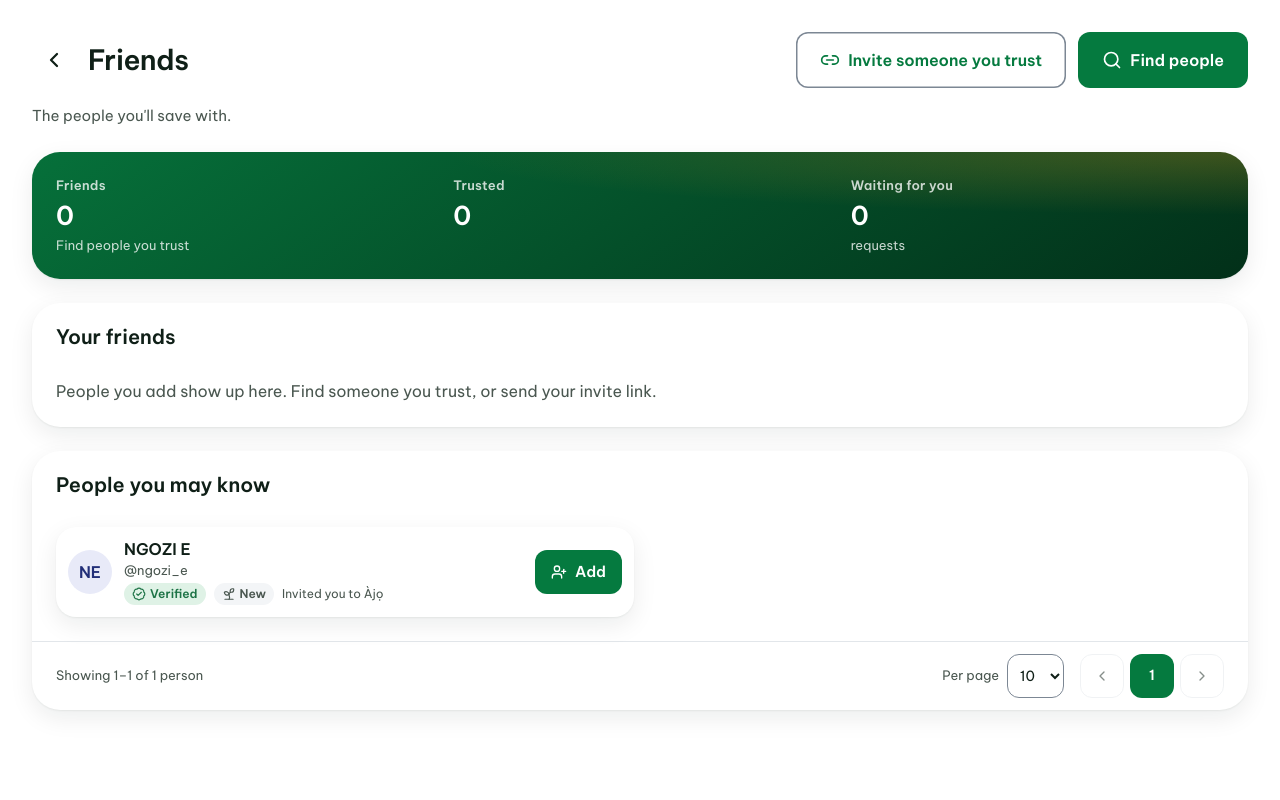
Test: the friends home › adds someone you may know with one tap, and says why if it fails
Expected: the text "Invited you to Àjọ" is shown, [282, 584, 384, 602]
Click the button with aria-label "Add NGOZI E" at (579,572), box [535, 550, 622, 594]
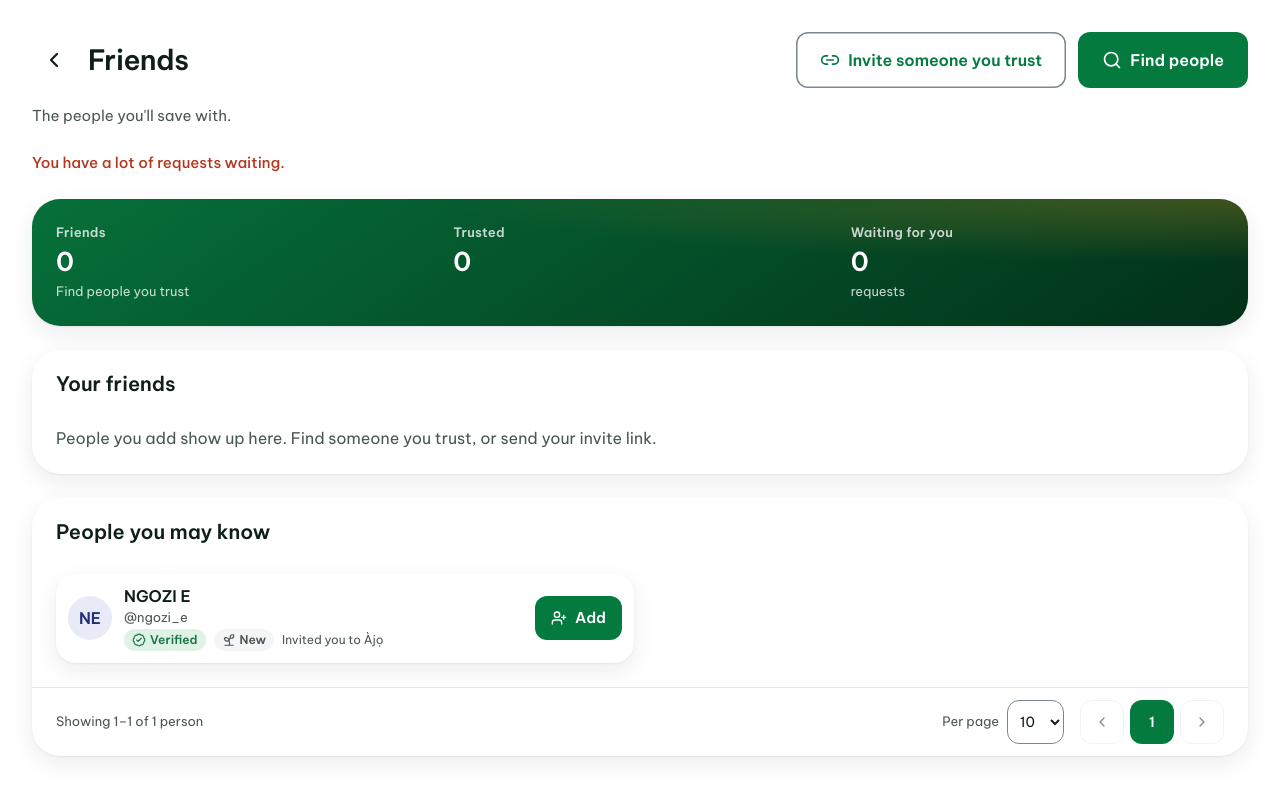
Result: the message reads "You have a lot of requests waiting." at [32, 153, 285, 172]
Click the button with aria-label "Add NGOZI E" at (579,618), box [535, 596, 622, 640]
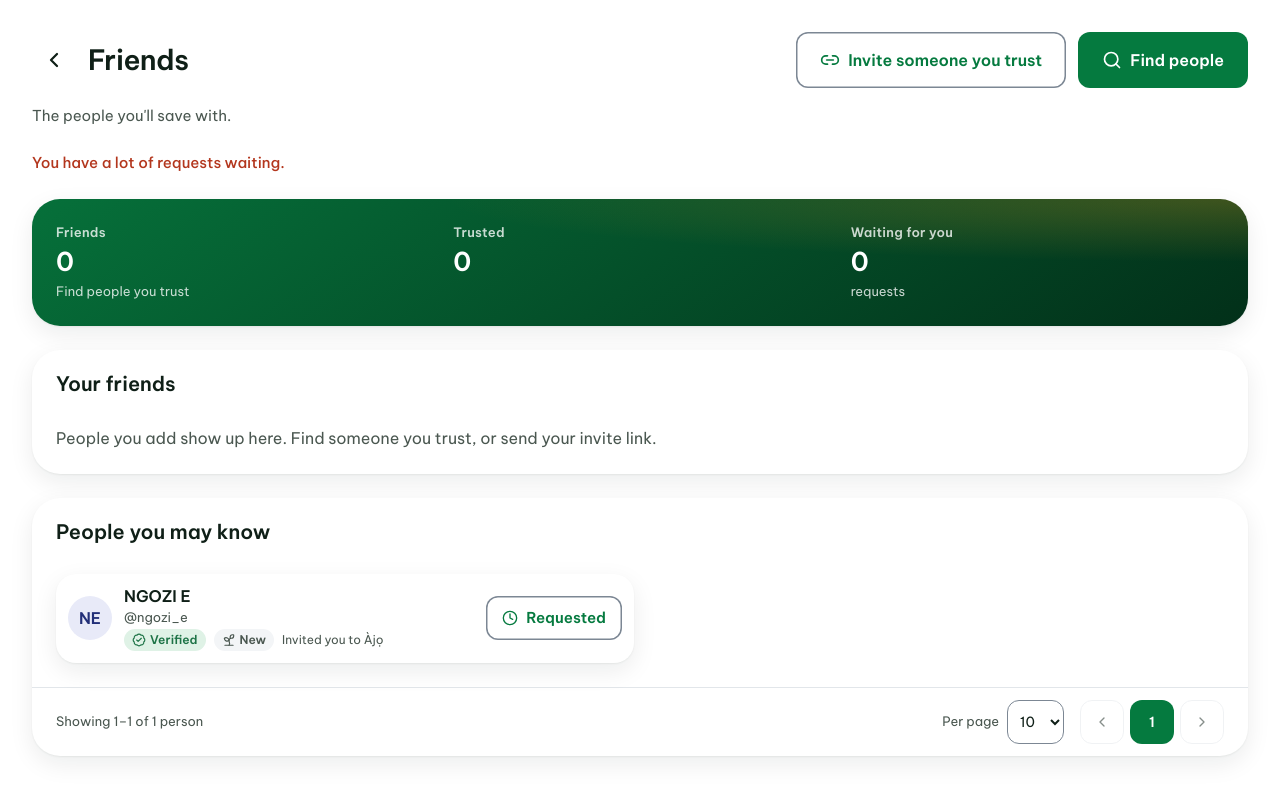
Result: the button with aria-label "Cancel your request to NGOZI E" is shown at [486, 596, 622, 640]
